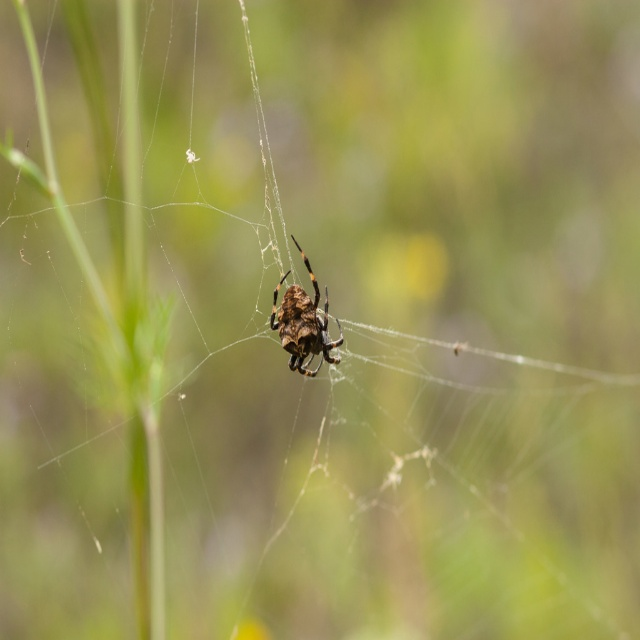Spider: (270, 234, 344, 377)
